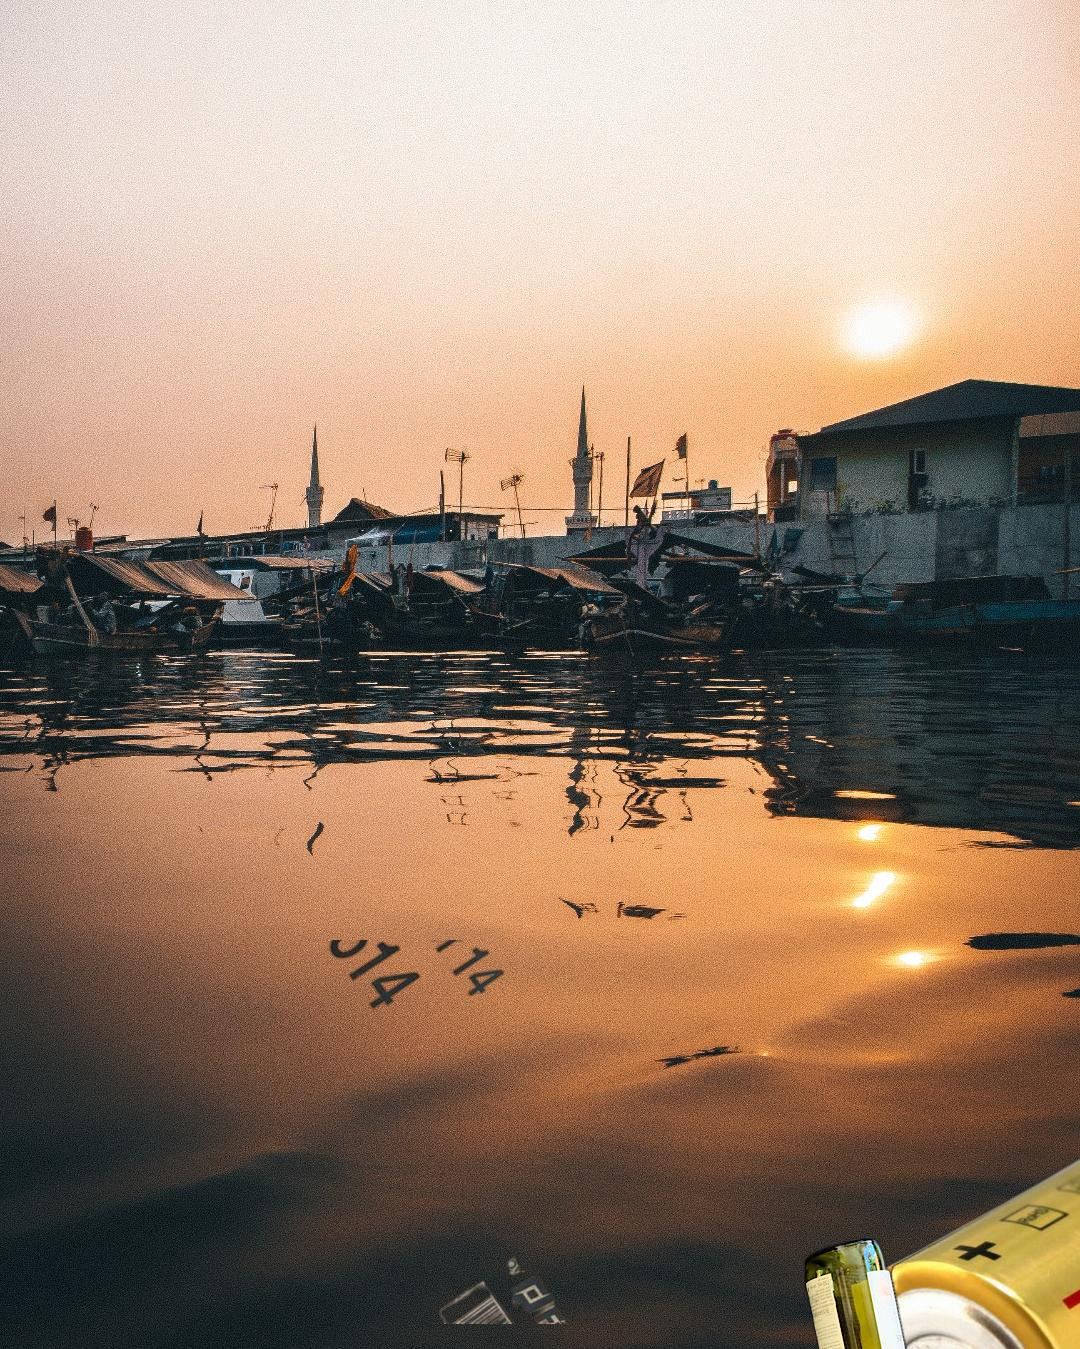battery: (829, 1102, 1080, 1349)
glass: (800, 1231, 922, 1349)
trashbox-cardboard: (325, 940, 574, 1324)
